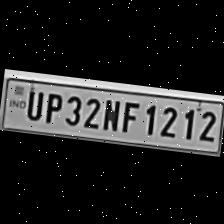1: (177, 103, 198, 140), (136, 100, 156, 136)
2: (154, 100, 180, 137), (194, 106, 218, 142), (80, 92, 102, 128)
3: (60, 90, 82, 126)
F: (117, 96, 139, 134)
N: (98, 94, 120, 132)
P: (40, 88, 64, 124)
U: (21, 85, 44, 120)
